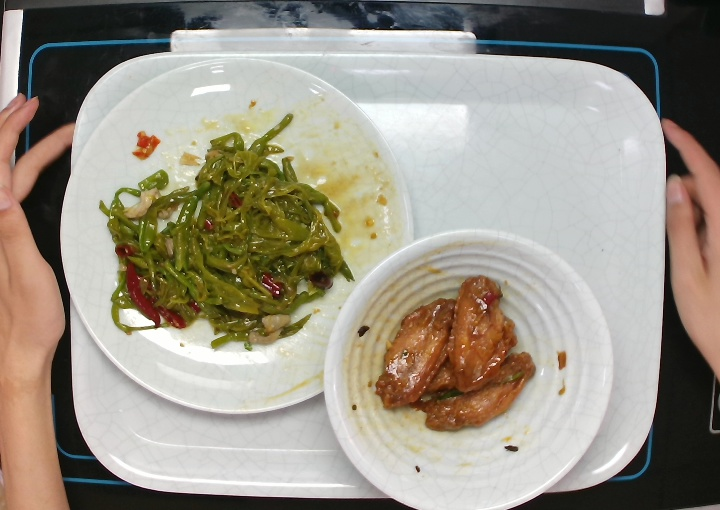JYsf-Da_Yuan_Pan: (57, 52, 421, 421)
JYsf-Xiao_Tang_Wan: (321, 225, 619, 510)
